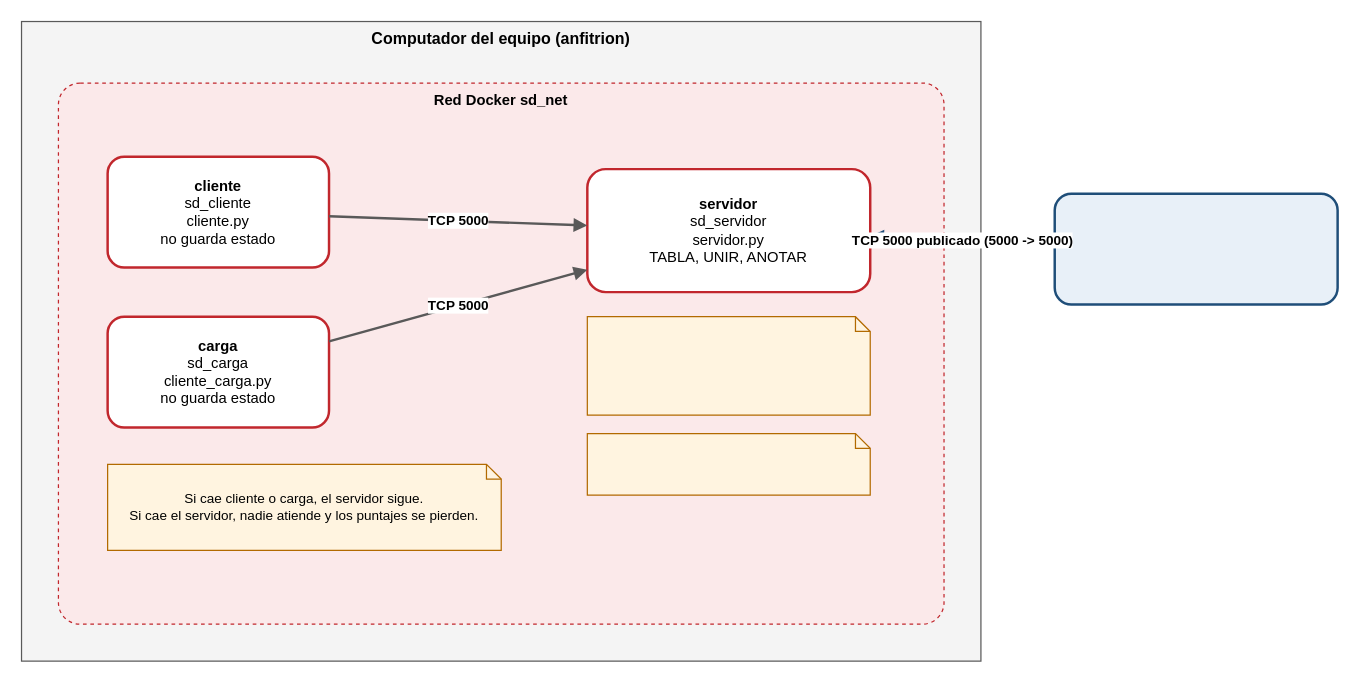
This 1360x683 diagram has some shape labels left out. The shapes that lost their labels are listed below. From the top down, each one's box as (x1, y1, x2, y2) in pixels, then its label:
(1053, 192, 1338, 305): Otro equipo fuera del computador su cliente, por la red del laboratorio
(586, 315, 870, 415): Estado compartido puntajes en memoria david: 0, felipe: 0 protegido por Lock
(586, 432, 870, 495): Concurrencia hilo por cliente
